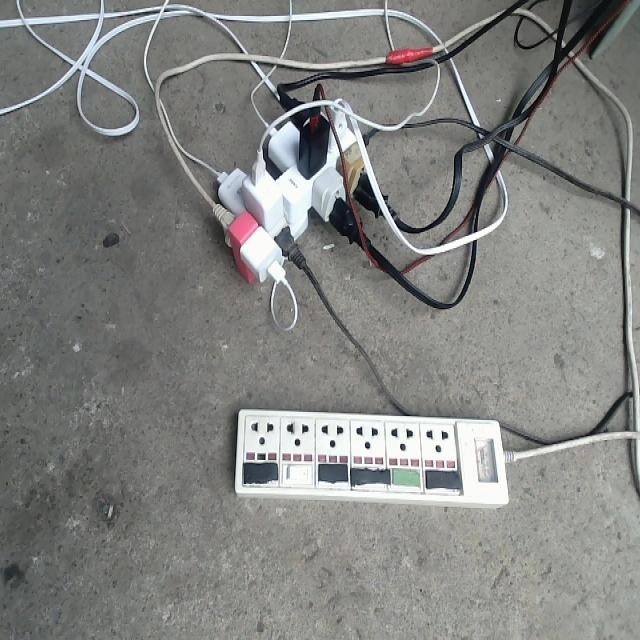-: (215, 84, 384, 291)
